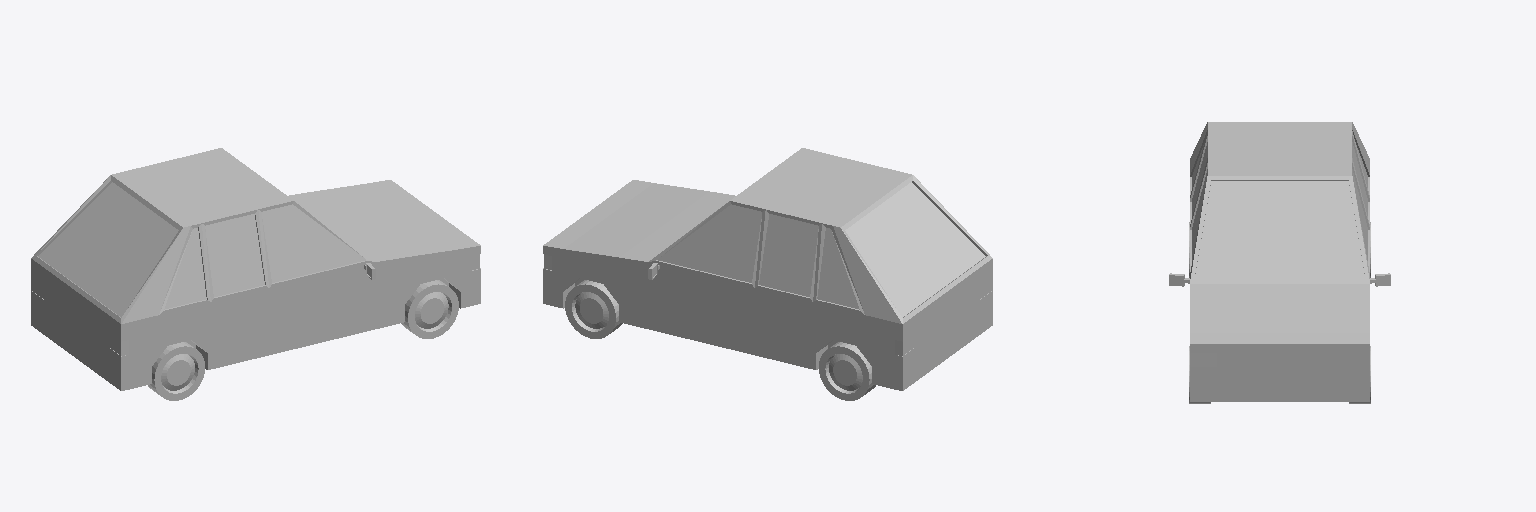
The model's file is frame8.obj.
3 views of the same model, side by side, from view 1: azimuth 30°, elevation 25°; view 2: azimuth 150°, elevation 25°; view 3: azimuth 270°, elevation 25° (orthographic).
Parts seen in each view (by area): view 1: Car1_Cube.001; view 2: Car1_Cube.001; view 3: Car1_Cube.001.
Part boxes in pixels (x1,y1,x2,y2): Car1_Cube.001: (31, 148, 480, 400); Car1_Cube.001: (543, 148, 992, 400); Car1_Cube.001: (1169, 122, 1390, 403).
Size of the model in its own units: 4.6 by 1.99 by 2.46.